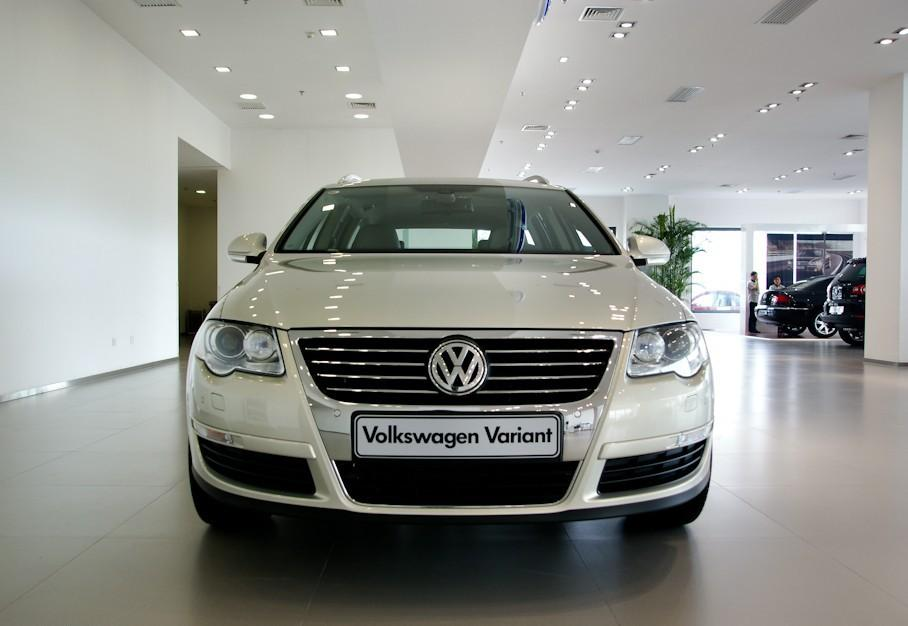Wagon: (185, 174, 715, 535)
